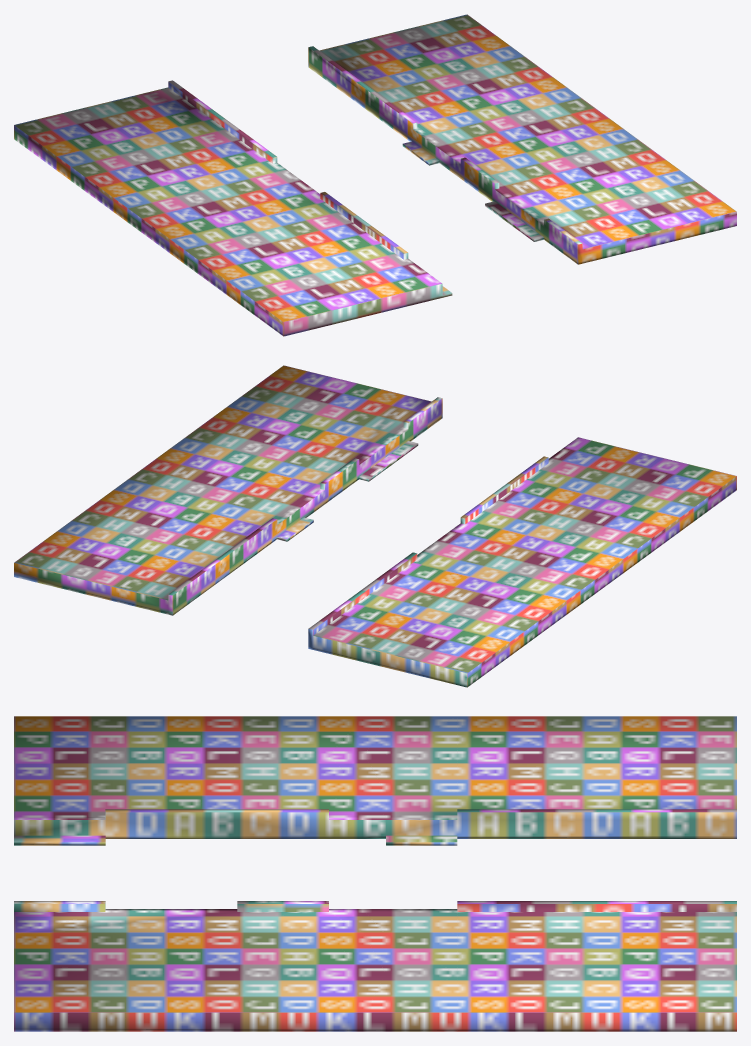
File: shore.obj
3 renders of one model, top to bottom at view 1: azimuth 30°, elevation 25°; view 2: azimuth 150°, elevation 25°; view 3: azimuth 270°, elevation 25°, orthographic. The views are drawn at different scales.
Visible parts, largest first — view 1: Cube1_extract2; view 2: Cube1_extract2; view 3: Cube1_extract2.
Part boxes in pixels (bbox=[...]): Cube1_extract2: bbox=[14, 14, 736, 336]; Cube1_extract2: bbox=[14, 365, 736, 687]; Cube1_extract2: bbox=[14, 716, 736, 1031].
Size of the model in its own units: 66.83 by 2.83 by 68.87.
1 material, 1 textured.
